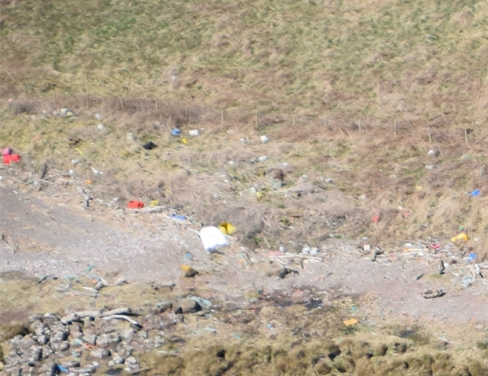scattered_barrel: (171, 212, 307, 291), (117, 115, 212, 216), (219, 127, 310, 202), (364, 176, 488, 229)
together_barrel: (359, 228, 488, 300)
white_in_green: (325, 301, 379, 342)
